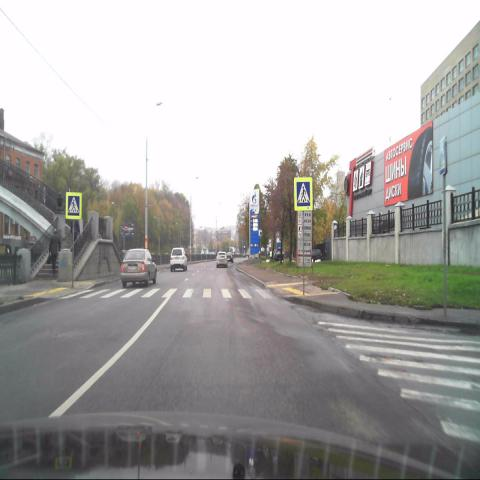5_19_1: (294, 177, 312, 210), (66, 193, 81, 220)
